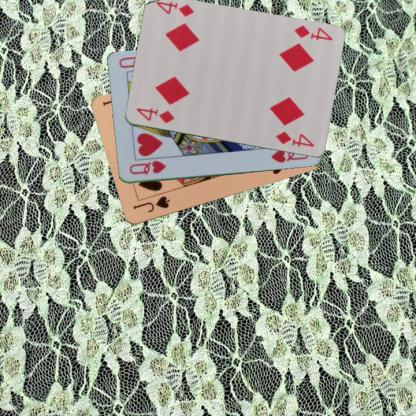4d: (134, 105, 176, 125), (292, 23, 334, 42)
Js: (130, 193, 171, 214)
Qh: (127, 158, 167, 176)
